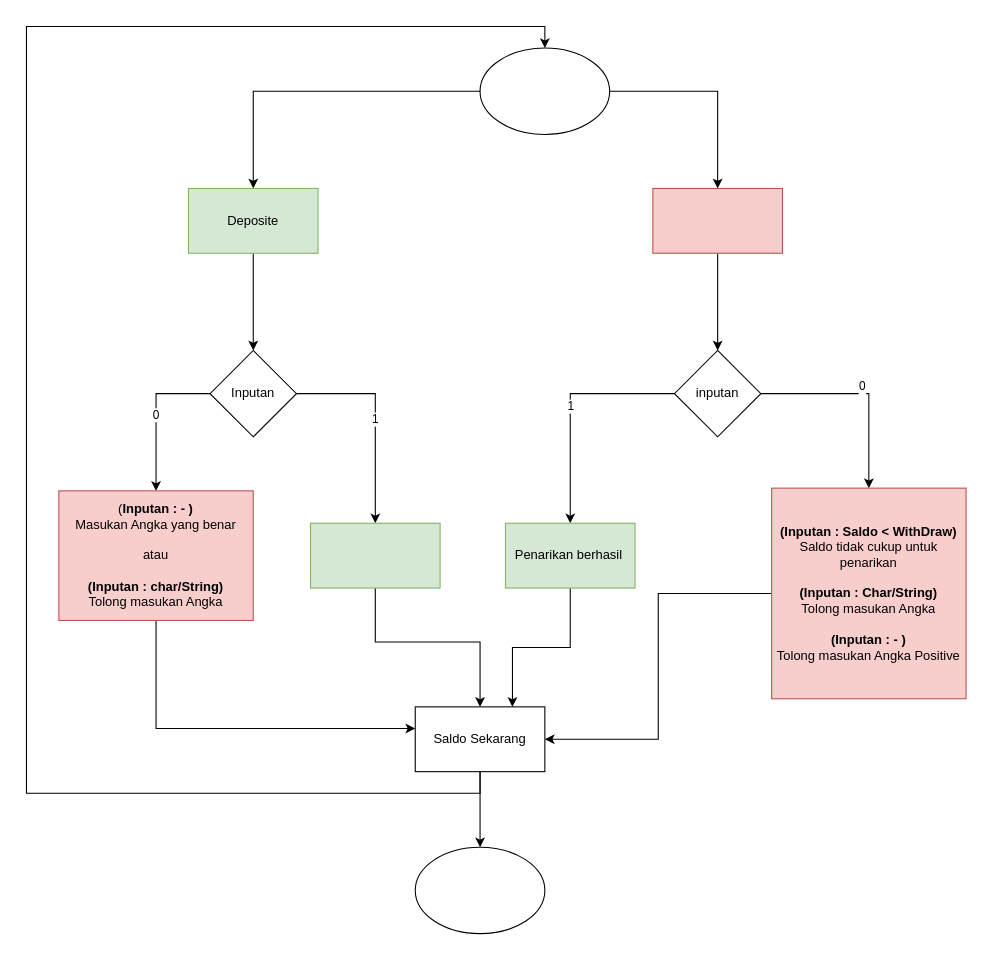
The diagram is 985 pixels wide and 953 high, and some of its shapes have lost their labels. Here are the shapes that lost their labels. From the top down, the box of each, then its label:
(479, 47, 610, 134): Start
(652, 187, 782, 253): WithDraw
(309, 522, 440, 588): Deposit berhasil! Muncul kan saldo Sekarang
(414, 846, 545, 934): END
